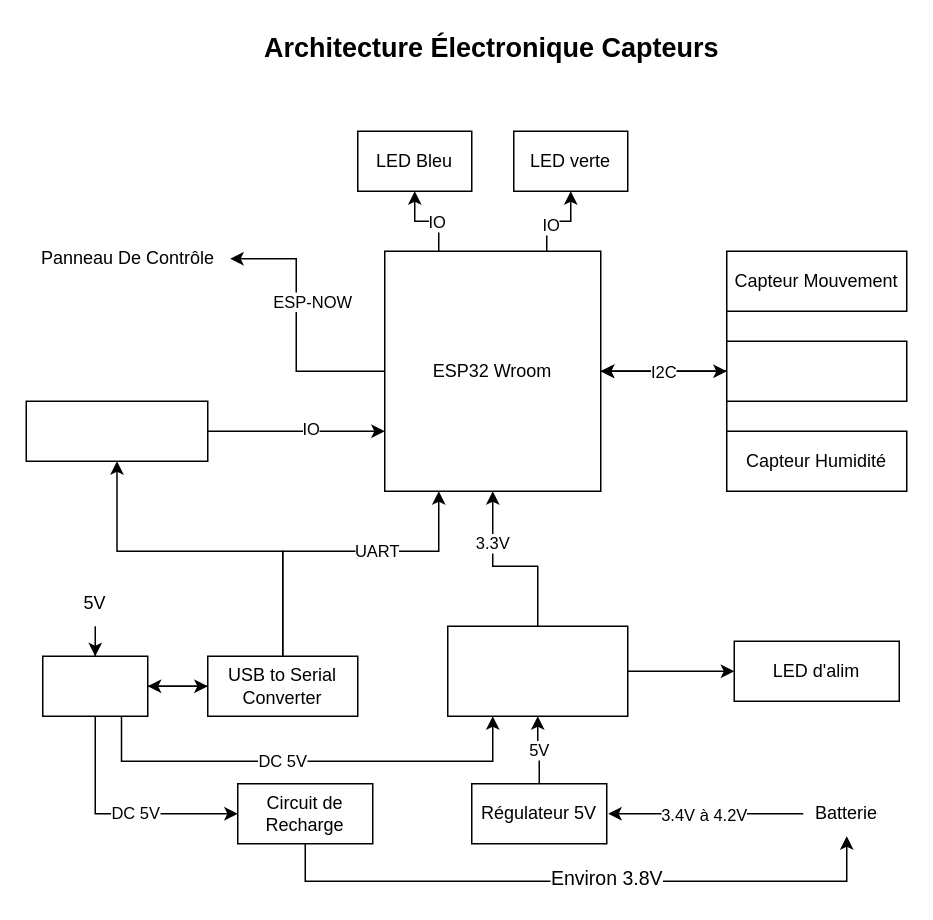
Some shapes in this 933 by 920 pixel diagram are drawn without their labels. Here are the shapes that lost their labels. From the top down, the centre of each, then its label:
At [816,370]: "Capteur Température".
At [116,430]: "Reset Module".
At [94,685]: "Port MICRO USB".
At [537,670]: "Régulateur 3.3V".
